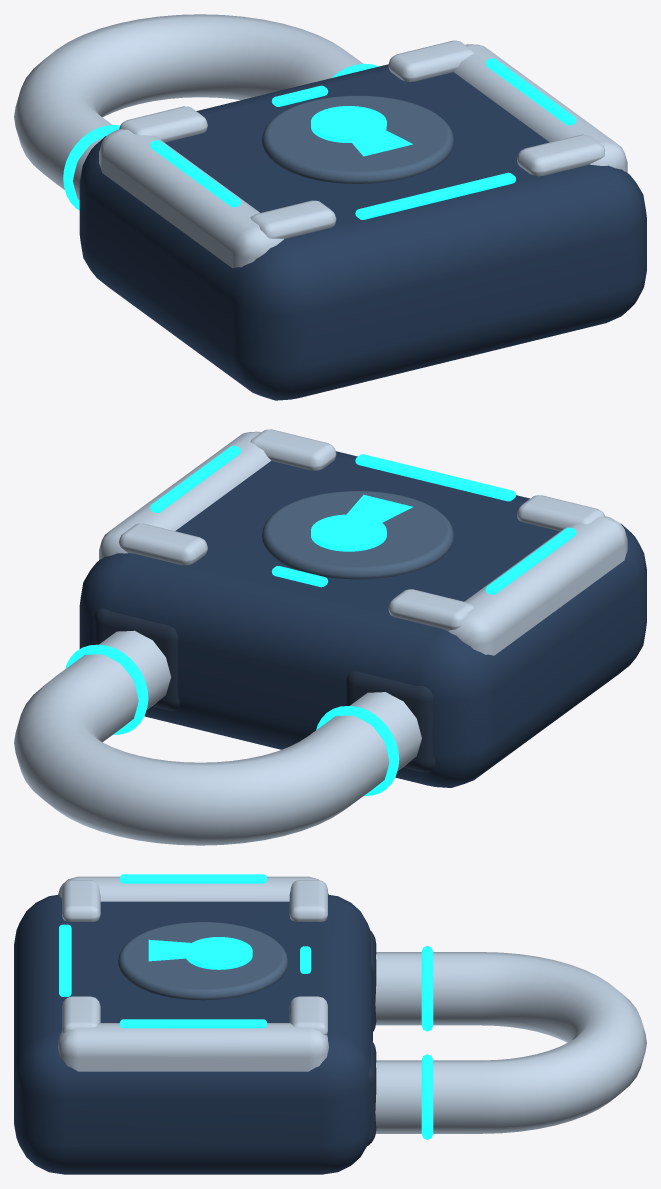
File: AFJ_Space_Padlock.fbx
3 renders of one model, top to bottom at view 1: azimuth 30°, elevation 25°; view 2: azimuth 150°, elevation 25°; view 3: azimuth 270°, elevation 25°, orthographic. The views are drawn at different scales.
Visible parts, largest first — view 1: Lock_Body, Shackle, Keyhole_Bezel, Armor_Side, Armor_Side.001, Corner_Plate.002, Corner_Plate.003, Corner_Plate, Corner_Plate.001, Lower_Energy_Bar, Keyhole_Round, Keyhole_Stem (+4 smaller); view 2: Lock_Body, Shackle, Keyhole_Bezel, Armor_Side, Armor_Side.001, Shackle_Socket, Shackle_Socket.001, Corner_Plate.003, Corner_Plate.001, Corner_Plate.002, Corner_Plate, Lower_Energy_Bar (+7 smaller); view 3: Lock_Body, Shackle, Armor_Side.001, Keyhole_Bezel, Armor_Side, Corner_Plate.001, Corner_Plate, Keyhole_Round, Energy_Side, Energy_Side.001, Corner_Plate.003, Corner_Plate.002 (+5 smaller).
Part boxes in pixels (bbox=[...]): Lock_Body: bbox=[79, 64, 646, 400]; Shackle: bbox=[14, 14, 363, 199]; Keyhole_Bezel: bbox=[262, 95, 453, 183]; Armor_Side: bbox=[99, 129, 283, 268]; Armor_Side.001: bbox=[454, 44, 627, 172]; Corner_Plate.002: bbox=[517, 134, 605, 176]; Corner_Plate.003: bbox=[388, 40, 474, 81]; Corner_Plate: bbox=[250, 200, 336, 238]; Corner_Plate.001: bbox=[119, 106, 207, 142]; Lower_Energy_Bar: bbox=[355, 172, 515, 219]; Keyhole_Round: bbox=[311, 106, 386, 142]; Keyhole_Stem: bbox=[338, 120, 412, 156]; Lock_Body: bbox=[79, 451, 646, 787]; Shackle: bbox=[14, 630, 421, 845]; Keyhole_Bezel: bbox=[262, 491, 453, 579]; Armor_Side: bbox=[448, 516, 627, 655]; Armor_Side.001: bbox=[99, 431, 270, 559]; Shackle_Socket: bbox=[346, 671, 435, 772]; Shackle_Socket.001: bbox=[94, 608, 179, 710]; Corner_Plate.003: bbox=[119, 523, 207, 565]; Corner_Plate.001: bbox=[388, 589, 474, 630]; Corner_Plate.002: bbox=[250, 429, 336, 470]; Corner_Plate: bbox=[517, 495, 604, 531]; Lower_Energy_Bar: bbox=[355, 454, 515, 501]; Lock_Body: bbox=[14, 894, 372, 1174]; Shackle: bbox=[375, 952, 646, 1133]; Armor_Side.001: bbox=[58, 1023, 328, 1071]; Keyhole_Bezel: bbox=[118, 922, 287, 1000]; Armor_Side: bbox=[58, 876, 328, 901]; Corner_Plate.001: bbox=[289, 880, 327, 921]; Corner_Plate: bbox=[62, 880, 100, 921]; Keyhole_Round: bbox=[186, 937, 252, 969]; Energy_Side: bbox=[119, 874, 267, 883]; Energy_Side.001: bbox=[119, 1019, 267, 1028]; Corner_Plate.003: bbox=[289, 996, 327, 1035]; Corner_Plate.002: bbox=[62, 996, 100, 1032].
Size of the model in its own units: 130 by 53.75 by 198.
